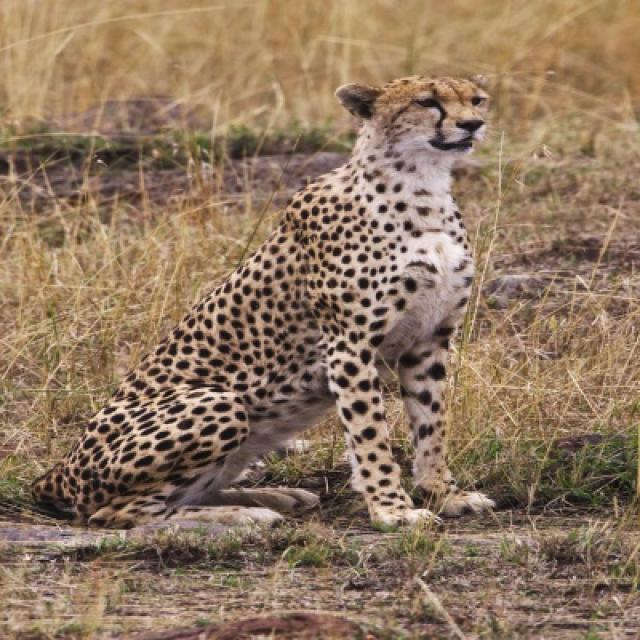Cheetah: (32, 77, 490, 526)
